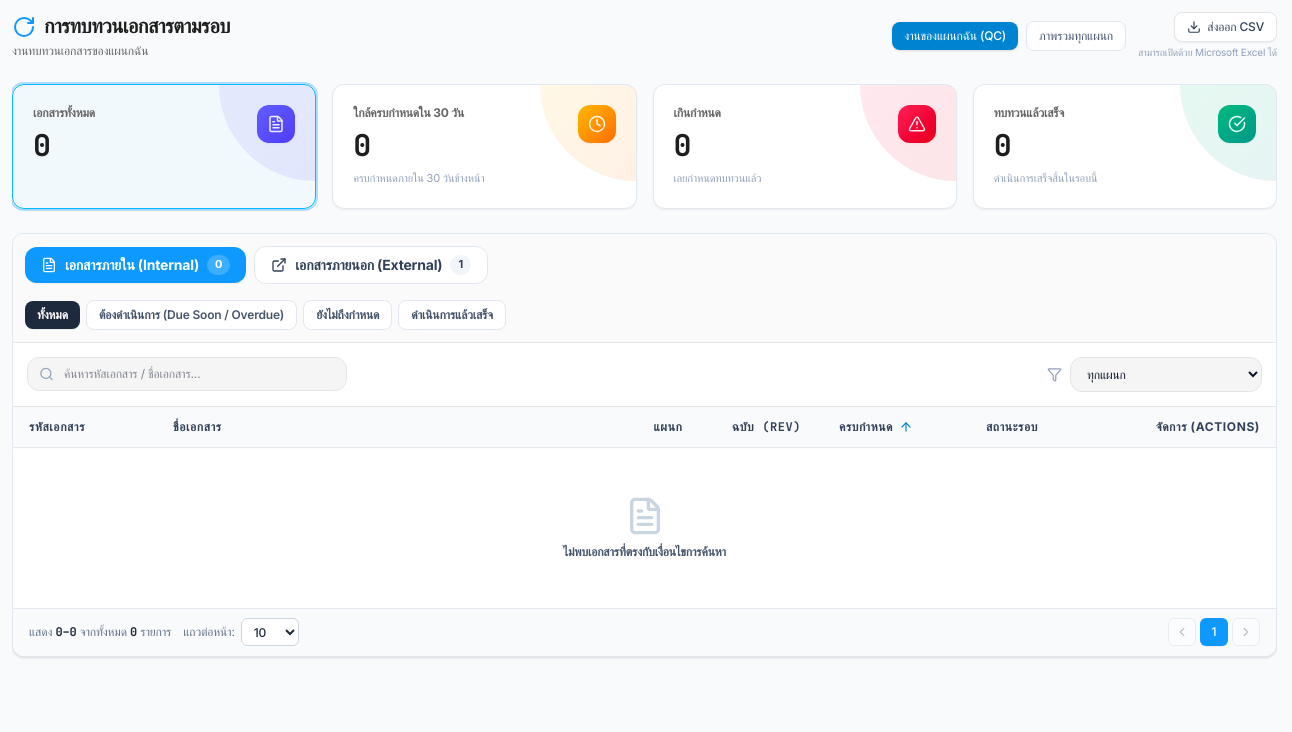
Test: E2E Integration: Live Recalculation, Action Handoff Deep-Link & L4+ Approval Workflow › Case 1 (Live Recalculation & 2027 Due Date): displays ✅ ยังไม่ถึงกำหนด (green), does NOT display ⚠️ ใกล้ครบกำหนด, and KPI card ใกล้ครบกำหนดใน 30 วัน is 0
The width and height of the screenshot is (1292, 732).
Switch to External Documents tab
Click the button "เอกสารภายนอก (External) 1" at point(371, 265), box [254,246,488,284]
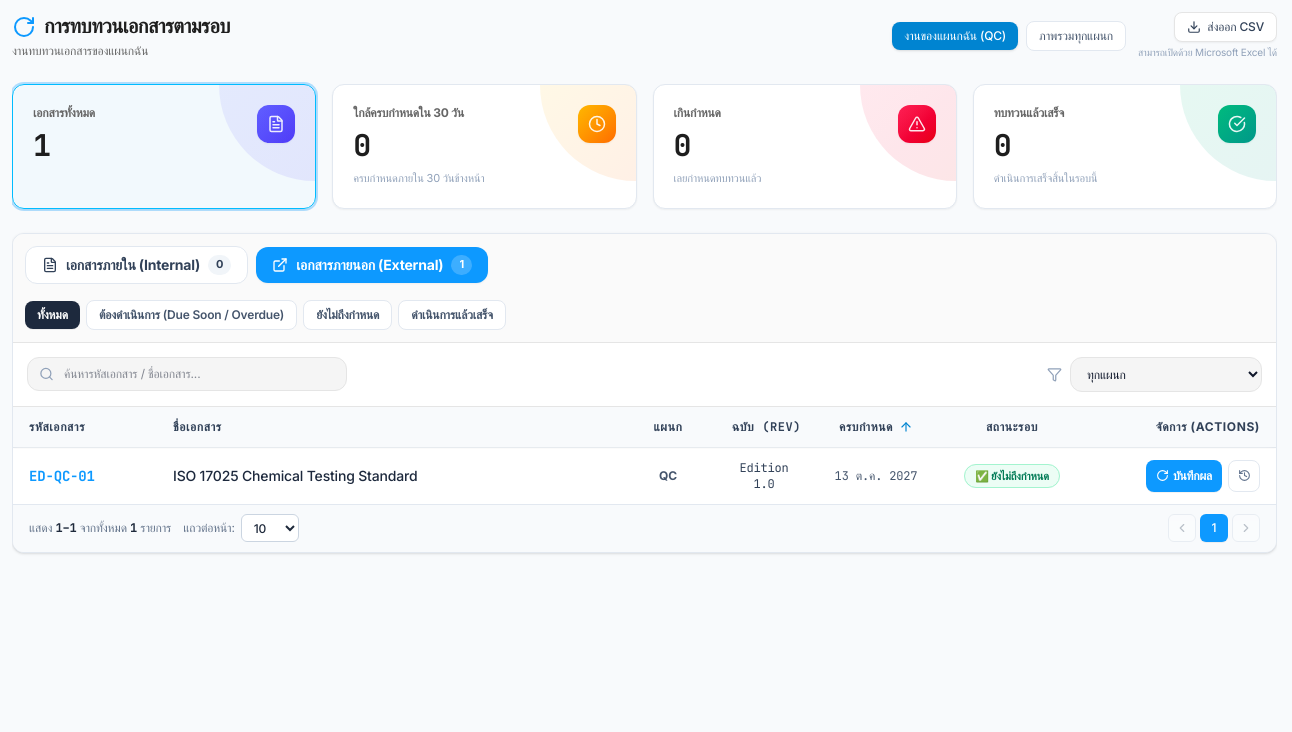
Expected: the heading "0" below "ใกล้ครบกำหนดใน 30 วัน" is shown, [353,125,371,165]
Expected: the text "✅ ยังไม่ถึงกำหนด" is shown, [964,464,1060,488]
